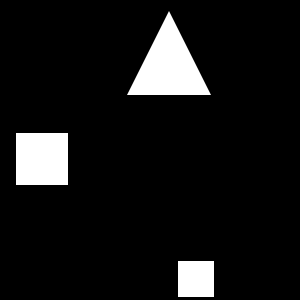circle: (16, 133, 68, 185), (178, 261, 214, 297)
triangle: (127, 11, 211, 95)
